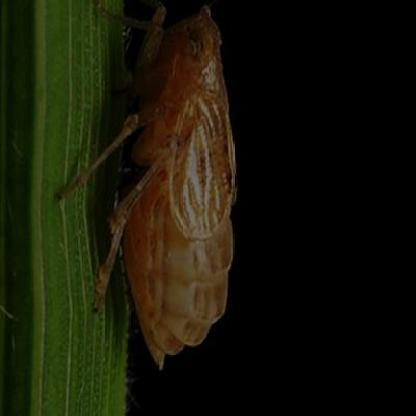brown-planthopper: (100, 9, 240, 374)
